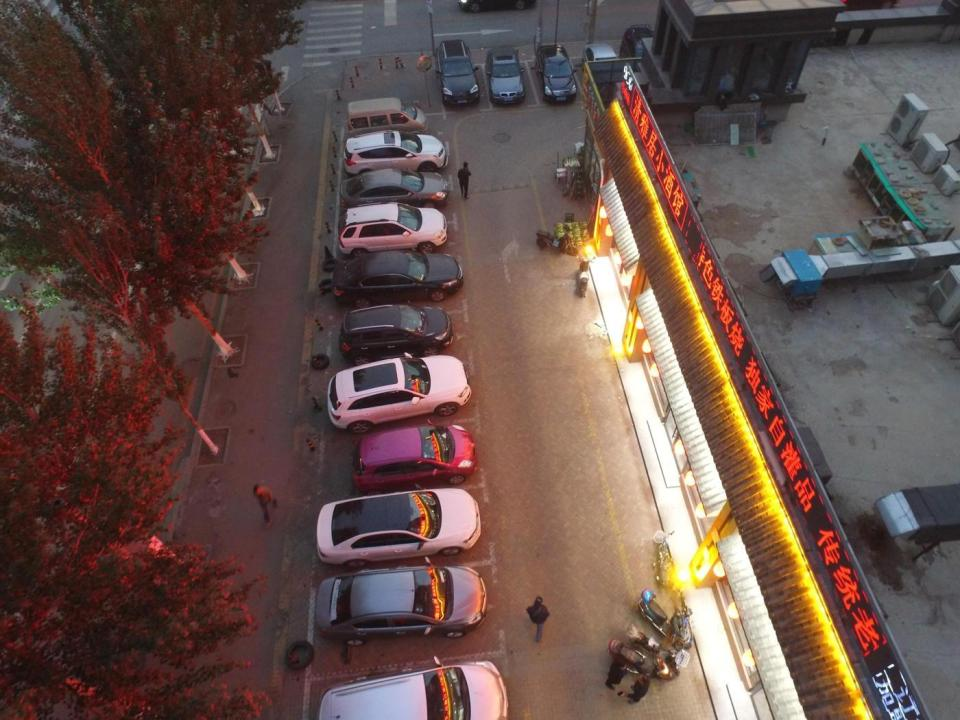car: (316, 490, 480, 569), (314, 570, 490, 643), (328, 353, 470, 438), (352, 426, 478, 494), (332, 254, 464, 303), (339, 305, 454, 359), (340, 206, 450, 256), (339, 165, 446, 214), (434, 39, 482, 110), (485, 45, 526, 108), (536, 44, 577, 106), (583, 39, 622, 104), (622, 23, 661, 74), (459, 0, 541, 12)
van: (316, 663, 514, 719), (343, 132, 449, 179), (347, 98, 428, 138)
